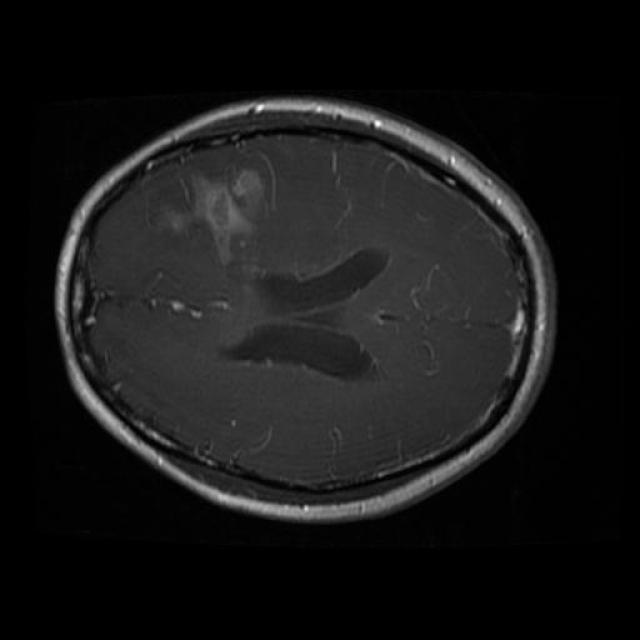Glioma: (159, 165, 273, 265)
